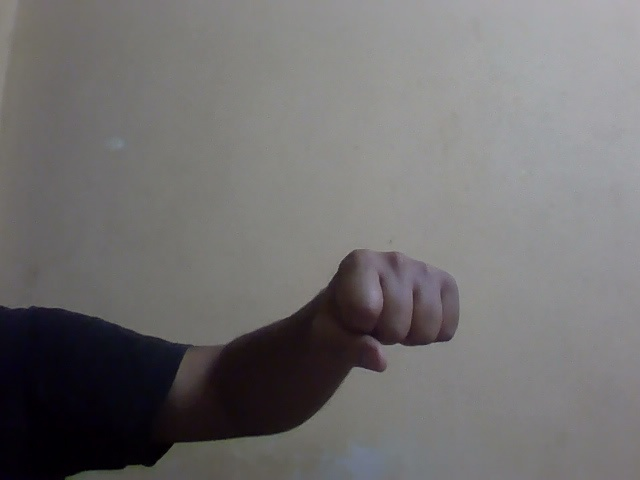Yes: (286, 234, 490, 405)
